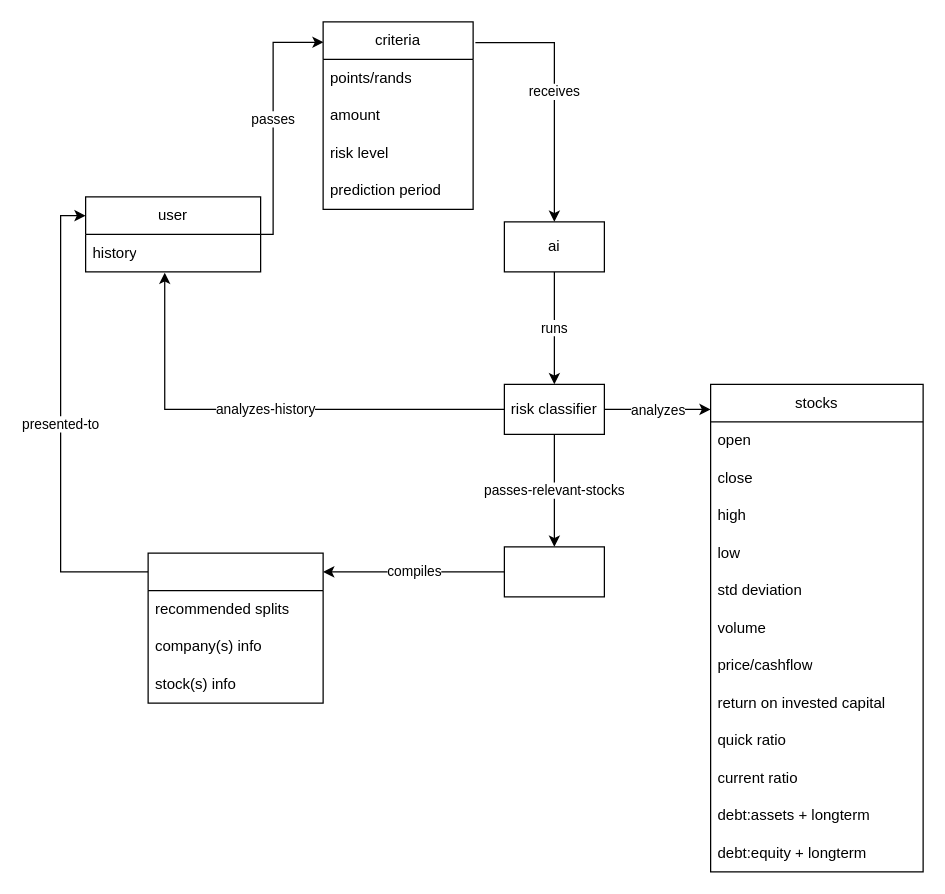
The diagram is 945 pixels wide and 894 high, and some of its shapes have lost their labels. The shapes that lost their labels are listed below. From the top down, each one's box as (x1, y1, x2, y2) in pixels, then its label:
(503, 546, 604, 597): stock forecast
(147, 552, 323, 703): recommendations
